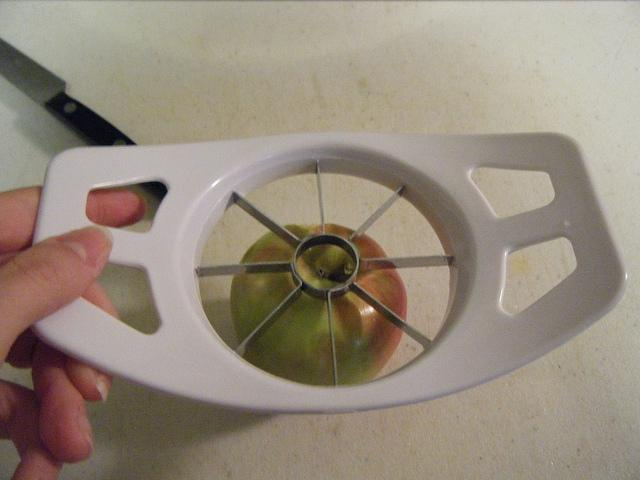apple: (230, 224, 408, 386)
